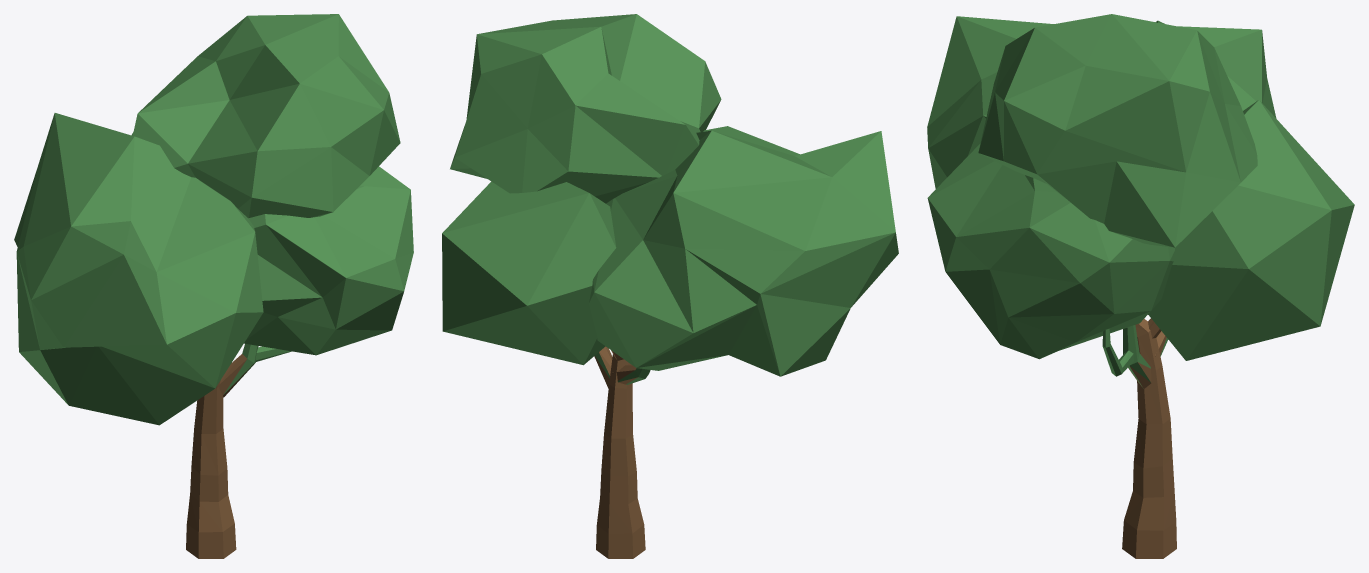
The model's file is tree3d-065.glb.
3 views of the same model, side by side, from view 1: azimuth 30°, elevation 25°; view 2: azimuth 150°, elevation 25°; view 3: azimuth 270°, elevation 25° (orthographic). The views are drawn at different scales.
Visible parts, largest first — view 1: tree3d-065; view 2: tree3d-065; view 3: tree3d-065.
Part boxes in pixels (bbox=[...]): tree3d-065: bbox=[14, 14, 413, 558]; tree3d-065: bbox=[442, 14, 898, 558]; tree3d-065: bbox=[927, 14, 1354, 558].
Size of the model in its own units: 0.8046 by 1 by 0.6989.
